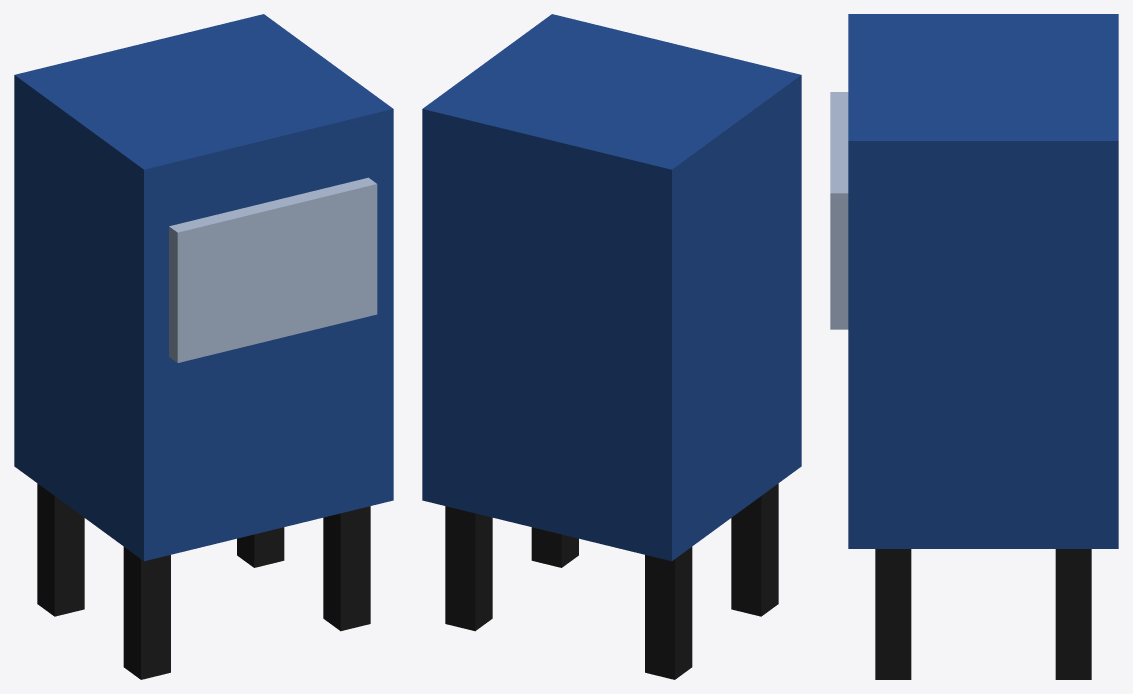
File: news.glb
3 views of the same model, side by side, from view 1: azimuth 30°, elevation 25°; view 2: azimuth 150°, elevation 25°; view 3: azimuth 270°, elevation 25° (orthographic). The views are drawn at different scales.
Visible parts, largest first — view 1: body; view 2: body; view 3: body.
Boxes of the visible parts, left/top/right/bottom form: body: left=14, top=14, right=393, bottom=679; body: left=422, top=14, right=801, bottom=679; body: left=830, top=14, right=1118, bottom=679.
Size of what is drawn, in the model's own units: 0.5 by 1 by 0.48.
